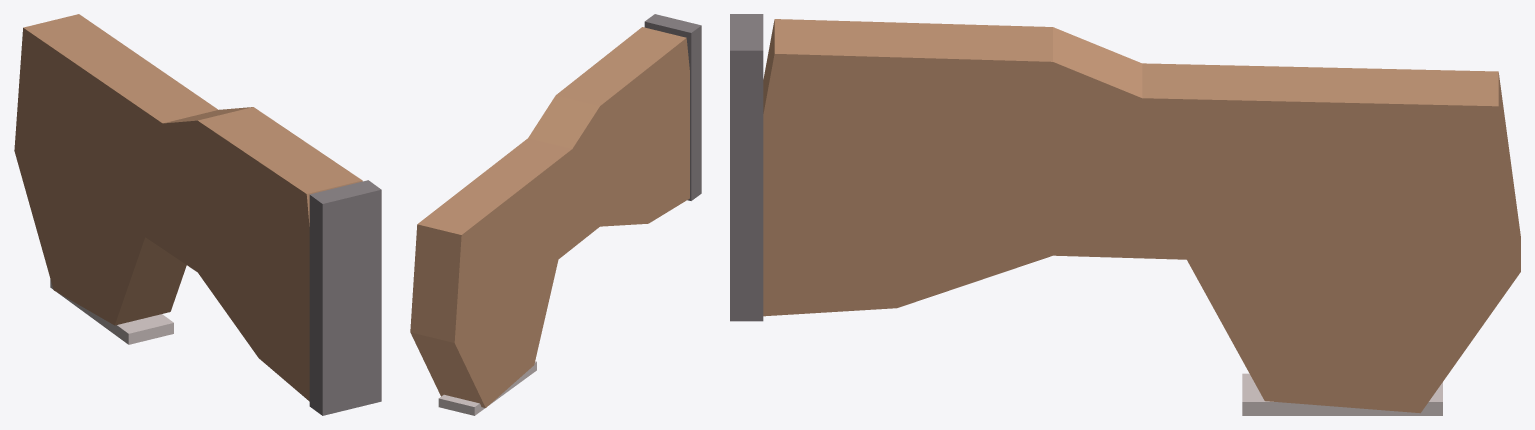
Rendered from bolt_sniper_stock.glb.
3 renders of one model, left to right at view 1: azimuth 30°, elevation 25°; view 2: azimuth 150°, elevation 25°; view 3: azimuth 270°, elevation 25°, orthographic. The views are drawn at different scales.
Visible parts, largest first — view 1: stock; view 2: stock; view 3: stock.
Boxes of the visible parts, bbox=[...] form: stock: bbox=[14, 14, 381, 415]; stock: bbox=[410, 14, 701, 415]; stock: bbox=[730, 14, 1520, 415].
Size of the model in its own units: 0.039 by 0.183 by 0.355.
